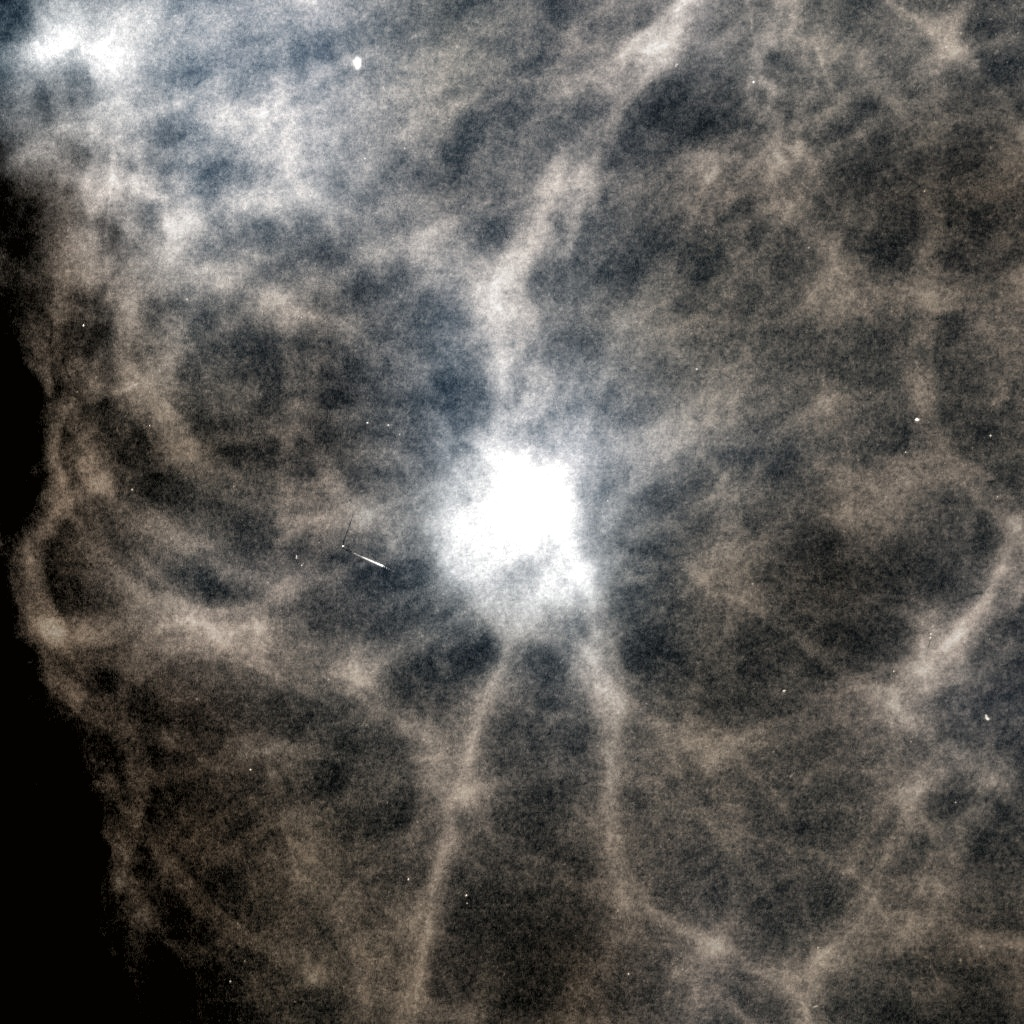tumor: (402, 393, 622, 631)
